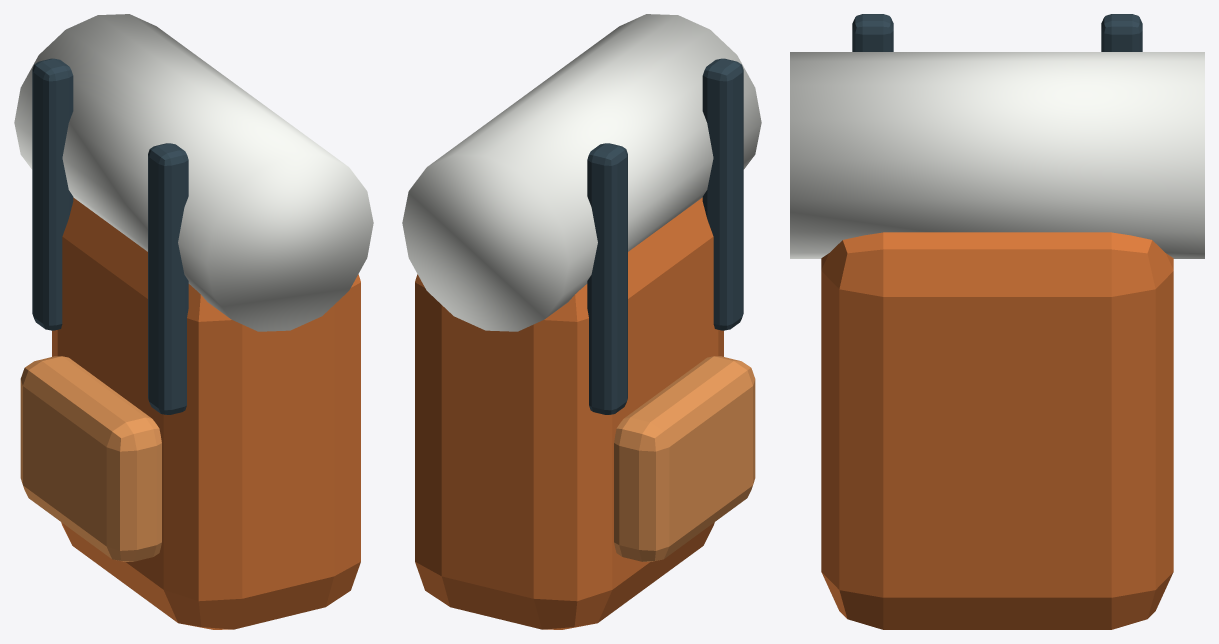
The model's file is character-backpack-b.glb.
3 views of the same model, side by side, from view 1: azimuth 30°, elevation 25°; view 2: azimuth 150°, elevation 25°; view 3: azimuth 270°, elevation 25° (orthographic). The views are drawn at different scales.
Parts seen in each view (by area): view 1: tyaga-backpack-b-surface; view 2: tyaga-backpack-b-surface; view 3: tyaga-backpack-b-surface.
Part boxes in pixels (x1,y1,x2,y2): tyaga-backpack-b-surface: (14,14,373,629); tyaga-backpack-b-surface: (402,14,761,629); tyaga-backpack-b-surface: (790,14,1204,629).
Size of the model in its own units: 0.285 by 0.57 by 0.4.
